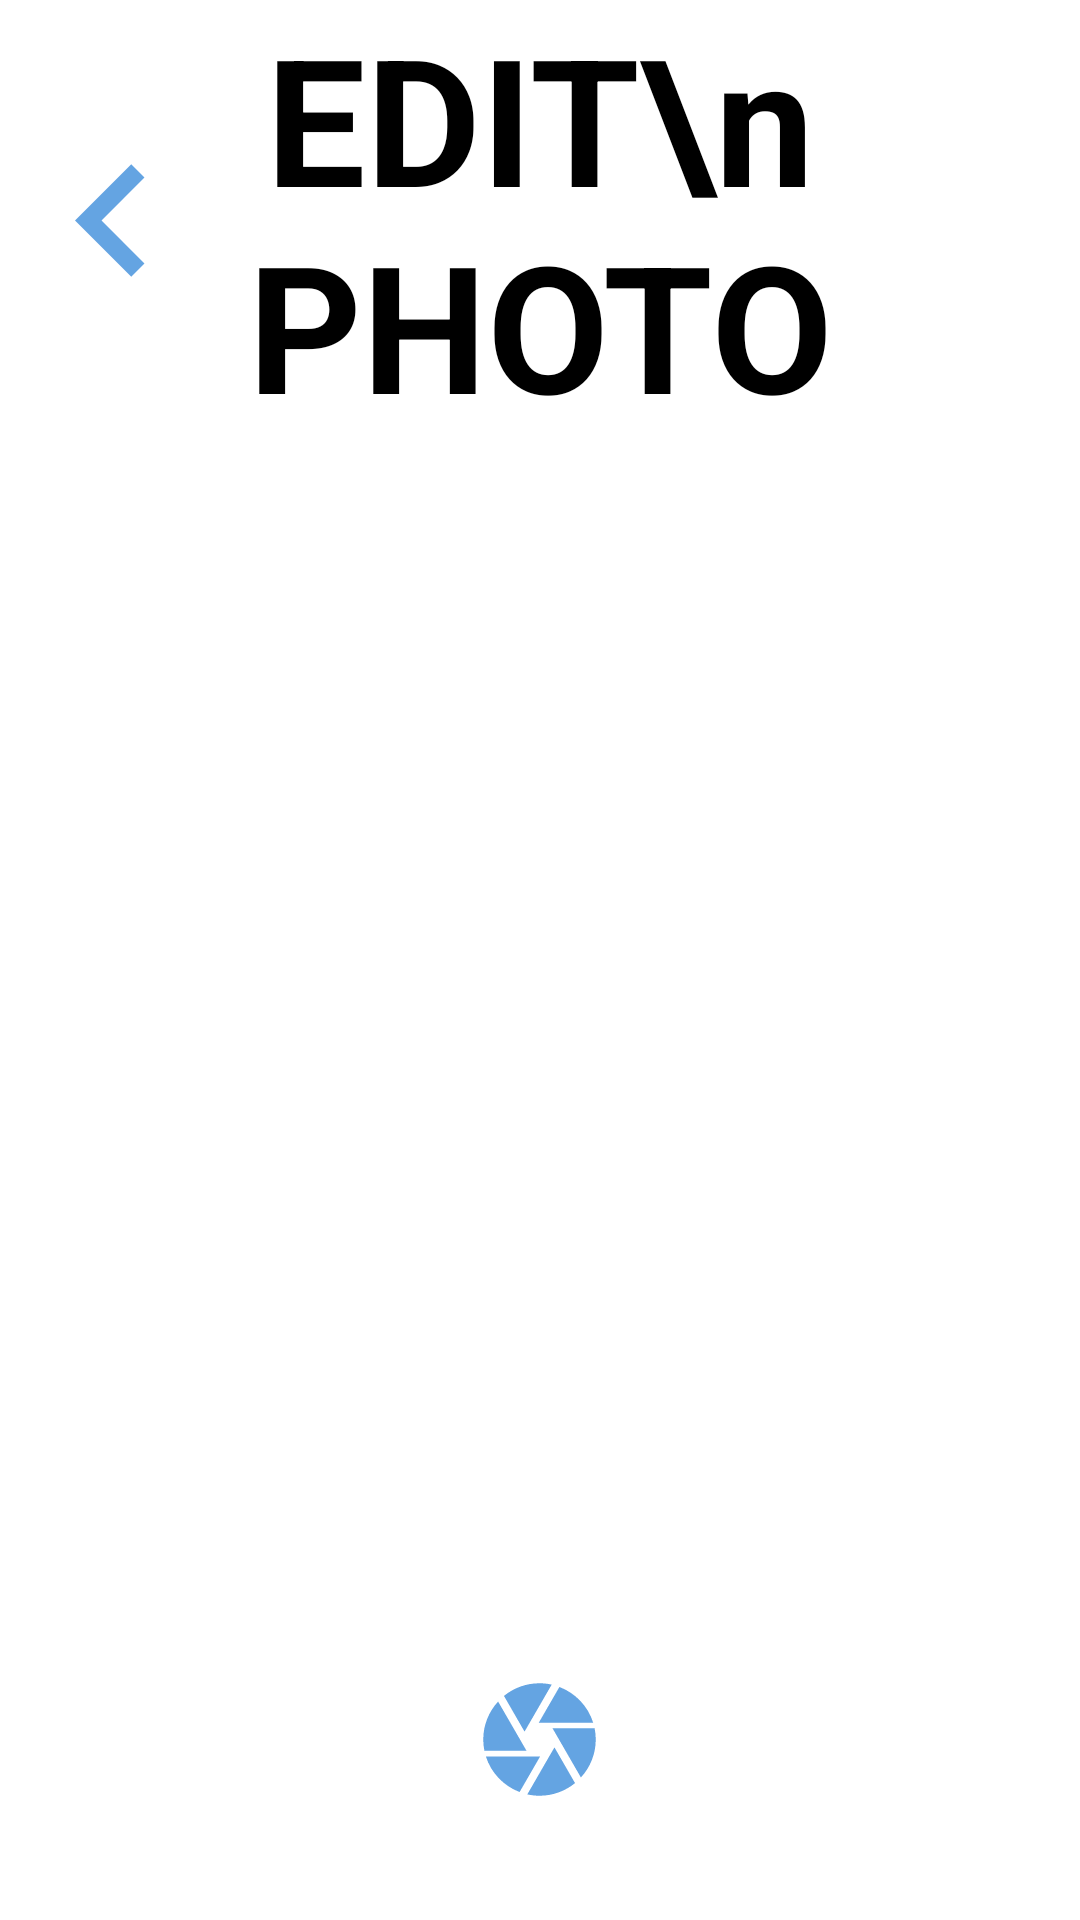

Where icons sit on this 1080 × 1920 app screen, as (x1, y1, x2, y2):
camera: (483, 1683, 596, 1796)
navigate before: (75, 164, 145, 277)
